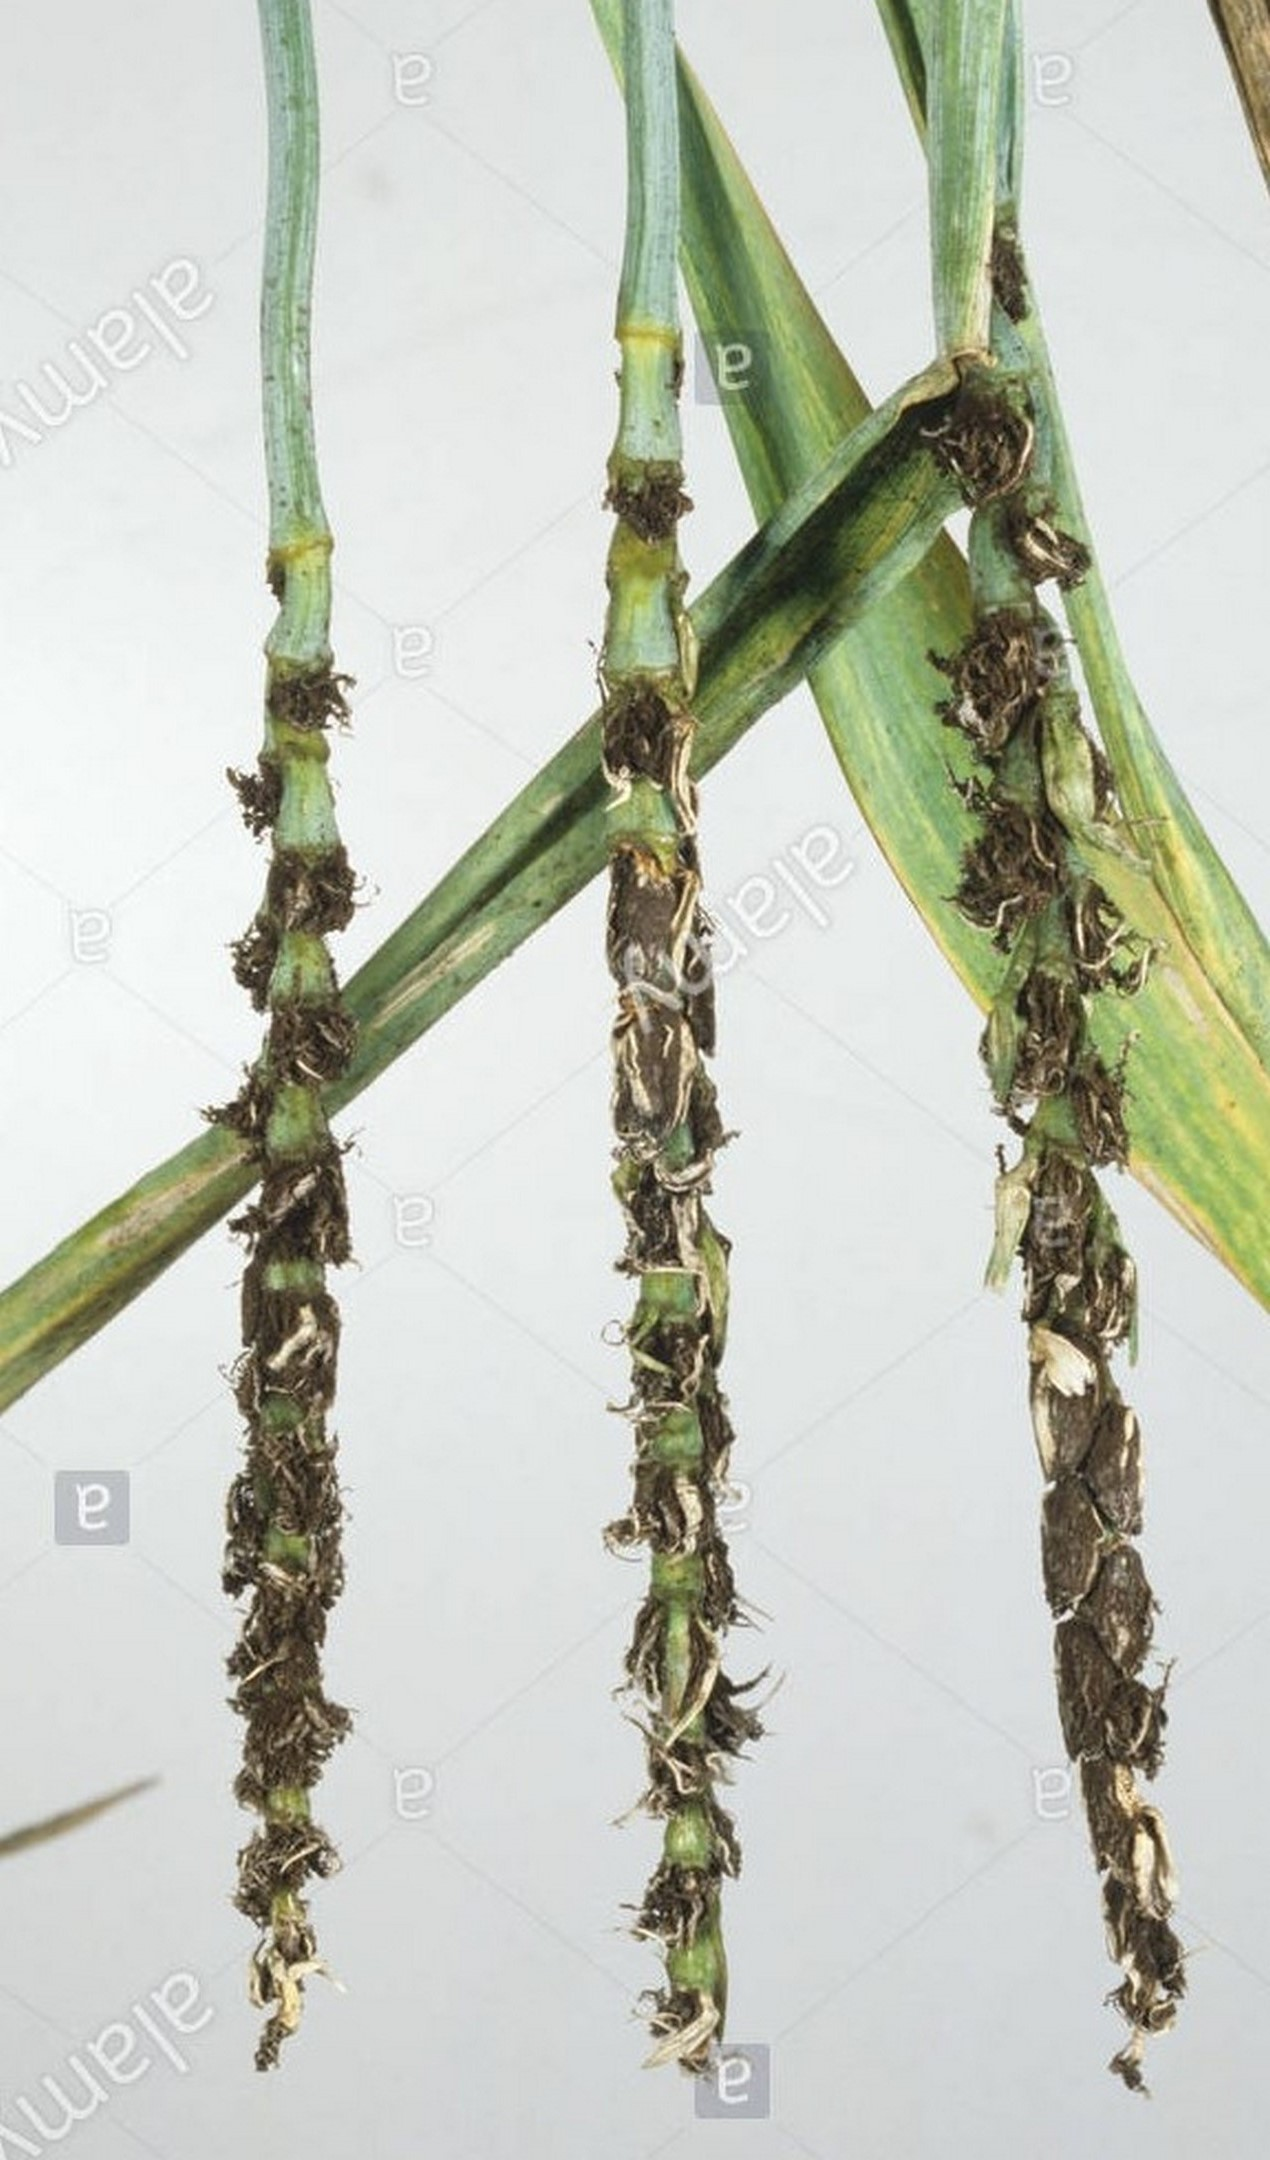Wheat Loose Smut: (145, 565, 1270, 1938)
